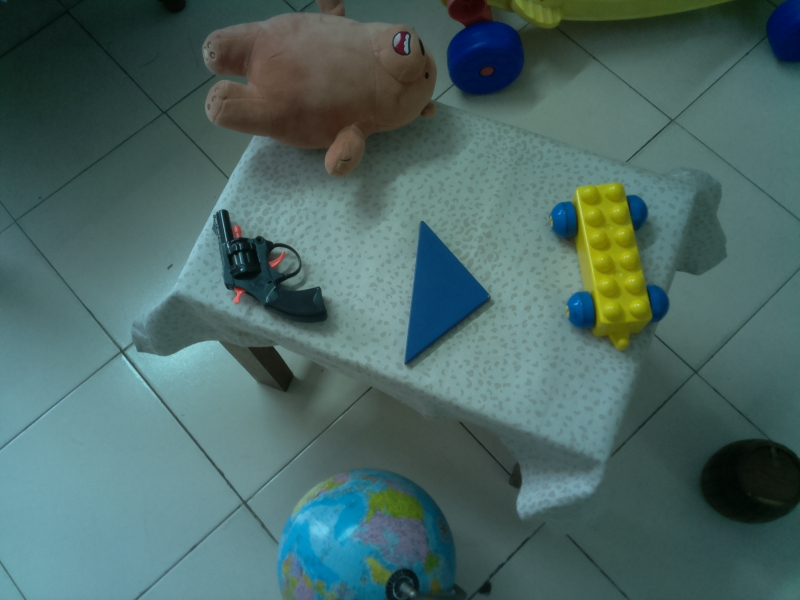Gun: (206, 201, 332, 326)
Triangle: (401, 219, 496, 376)
toy_Car: (546, 180, 672, 353)
